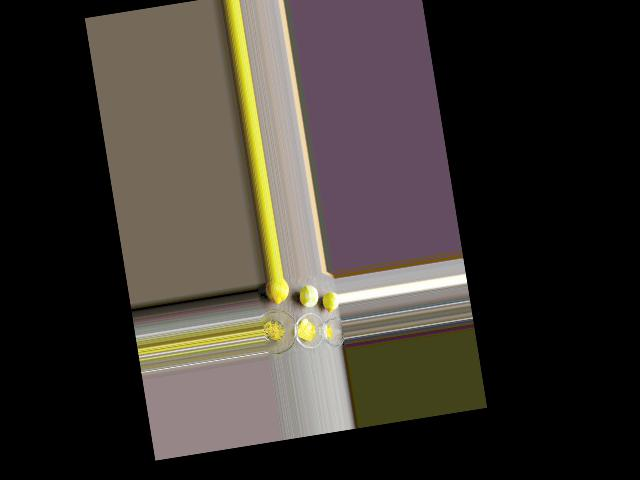lemon: (266, 279, 291, 308)
